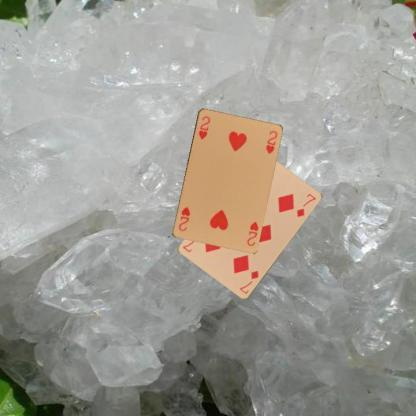2h: (244, 218, 260, 247), (196, 114, 212, 140)
7d: (237, 268, 260, 295)
